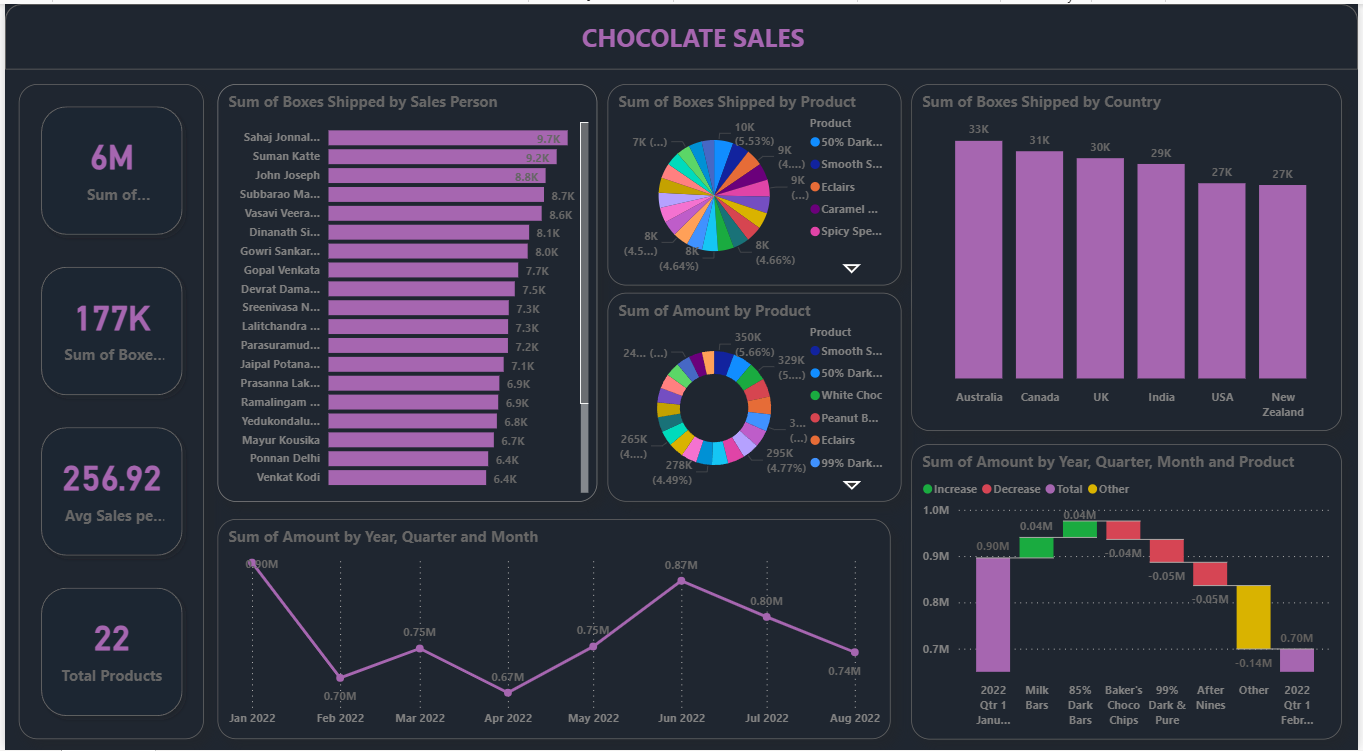

The dashboard page shown, as its layout file describes it:
{"tool":"powerbi","page":{"name":"Page 1","canvas":[1450,800],"ordinal":0},"visuals":[{"type":"barChart","fields":{"Category":["data.Sales Person"],"Y":["data.Boxes Shipped"]},"box":[228.2,85.6,407.5,448.2],"z":0},{"type":"columnChart","fields":{"Category":["data.Country"],"Y":["data.Boxes Shipped"]},"box":[971.1,85.6,461.8,372.2],"z":1000},{"type":"waterfallChart","fields":{"Category":["data.Date.Variation.Date Hierarchy.Year","data.Date.Variation.Date Hierarchy.Quarter","data.Date.Variation.Date Hierarchy.Month"],"Breakdown":["data.Product"],"Y":["data.Amount"]},"box":[971.1,471.3,461.8,316.5],"z":2000},{"type":"lineChart","fields":{"Y":["data.Amount"],"Category":["data.Date.Variation.Date Hierarchy.Year","data.Date.Variation.Date Hierarchy.Quarter","data.Date.Variation.Date Hierarchy.Month","data.Date.Variation.Date Hierarchy.Day"]},"box":[228.2,551.4,721.2,236.3],"z":3000},{"type":"pieChart","fields":{"Y":["data.Boxes Shipped"],"Category":["data.Product"]},"box":[646.5,85.6,315.1,216],"z":4000},{"type":"cardVisual","fields":{"Data":["data.Amount","data.Boxes Shipped","data.Avg Sales per Product","data.Total Products"]},"box":[14.9,85.6,198.3,702.2],"z":5000},{"type":"shape","box":[0,0,1450.6,70.6],"z":6000},{"type":"textbox","box":[491.7,12.2,491.7,73.3],"z":7000},{"type":"donutChart","fields":{"Y":["data.Amount"],"Category":["data.Product"]},"box":[646.5,309.7,315.1,224.1],"z":8000}]}

Visuals, with their boxes in screenshot pixels (x1, y1, x2, y2), scaled from the page's 1450x800 canvas onto the 1363x751 screenshot:
barChart - data.Sales Person x data.Boxes Shipped: bbox=[215, 80, 598, 501]
columnChart - data.Country x data.Boxes Shipped: bbox=[913, 80, 1347, 430]
waterfallChart - data.Date.Variation.Date Hierarchy.Year x data.Date.Variation.Date Hierarchy.Quarter: bbox=[913, 442, 1347, 740]
lineChart - data.Amount x data.Date.Variation.Date Hierarchy.Year: bbox=[215, 518, 892, 739]
pieChart - data.Boxes Shipped x data.Product: bbox=[608, 80, 904, 283]
cardVisual - data.Amount x data.Boxes Shipped: bbox=[14, 80, 200, 740]
shape: bbox=[0, 0, 1362, 66]
textbox: bbox=[462, 11, 924, 80]
donutChart - data.Amount x data.Product: bbox=[608, 291, 904, 501]
